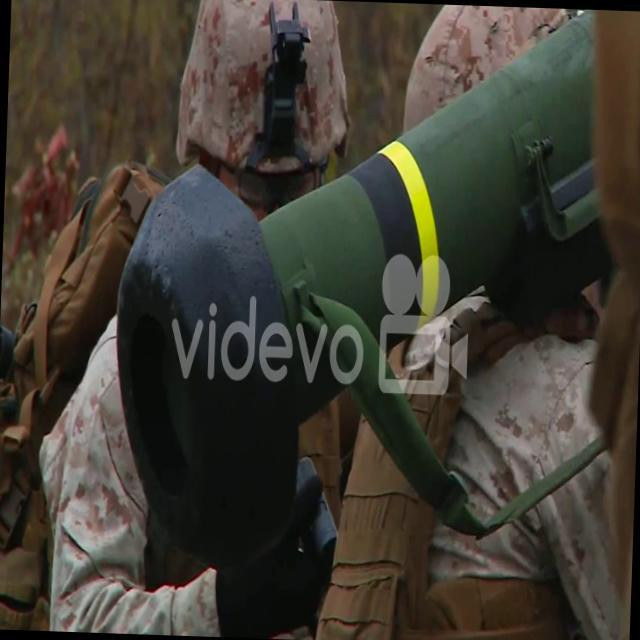rocket: (106, 0, 621, 564)
